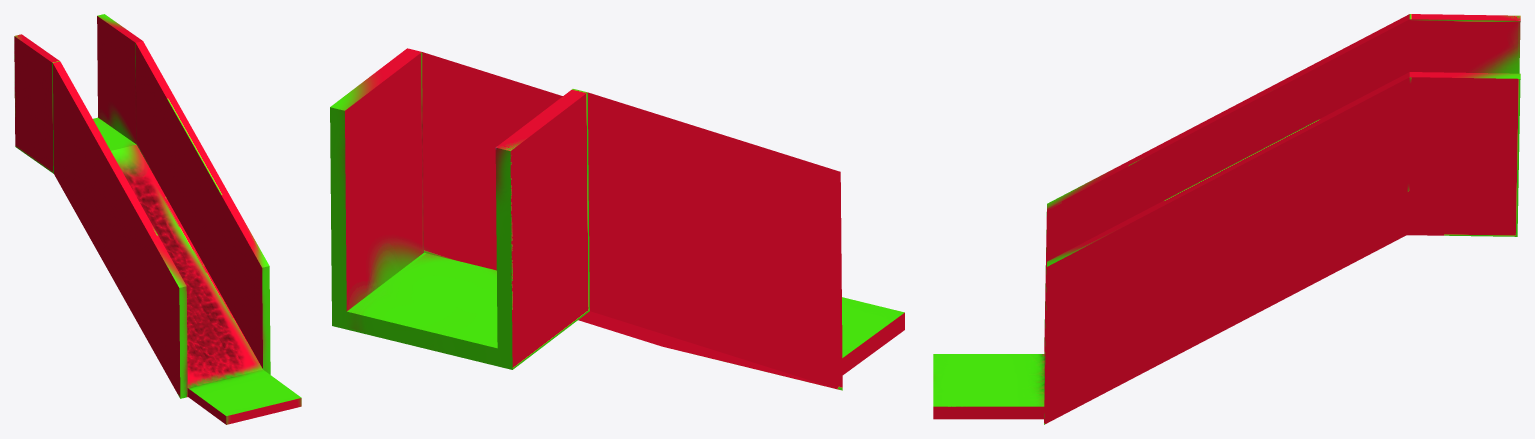
File: runninghill-basic-level.glb
3 views of the same model, side by side, from view 1: azimuth 30°, elevation 25°; view 2: azimuth 150°, elevation 25°; view 3: azimuth 270°, elevation 25° (orthographic). The views are drawn at different scales.
Visible parts, largest first — view 1: levelmesh-col.002; view 2: levelmesh-col.002; view 3: levelmesh-col.002.
Boxes of the visible parts, x1,y1,x2,y2 form: levelmesh-col.002: [14, 14, 301, 424]; levelmesh-col.002: [330, 48, 904, 390]; levelmesh-col.002: [933, 14, 1520, 424].
Size of the model in its own units: 16.19 by 41.56 by 63.57.
1 material, 1 textured.
